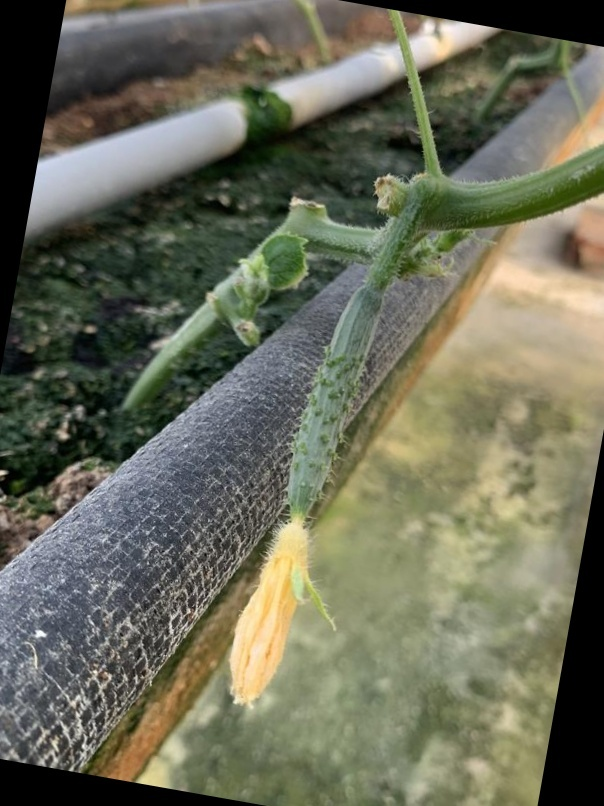bear: (217, 273, 394, 719)
